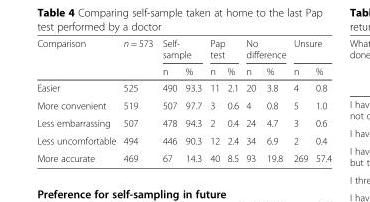table: (36, 37, 331, 163)
table column: (36, 37, 119, 163), (119, 37, 157, 163), (260, 37, 289, 163), (180, 37, 205, 163), (157, 37, 180, 163), (289, 37, 311, 163), (311, 37, 331, 163), (222, 37, 241, 163), (241, 37, 260, 163), (205, 37, 222, 163)
table column header: (36, 37, 331, 79)
table row: (36, 37, 331, 62), (36, 113, 331, 131), (36, 131, 331, 149), (36, 62, 331, 79), (36, 79, 331, 96), (36, 96, 331, 113), (36, 149, 331, 163)
table spanning cell: (36, 37, 119, 79), (119, 37, 157, 79), (157, 37, 205, 62), (241, 37, 289, 62), (289, 37, 331, 62), (205, 37, 241, 62)
